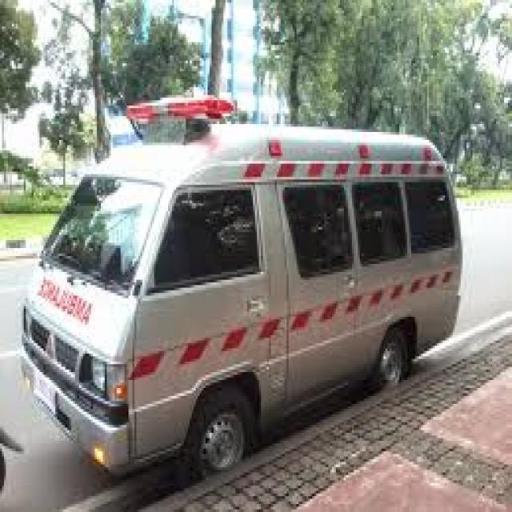Police car: (16, 95, 461, 478)
